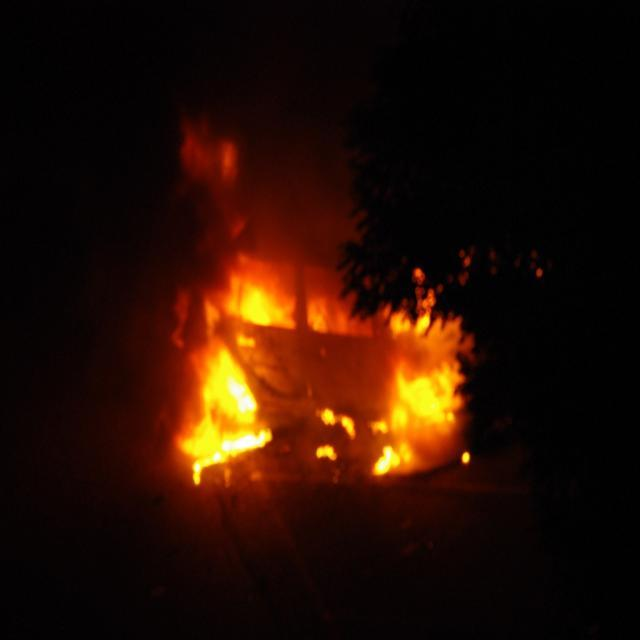Fire: (196, 331, 264, 474), (396, 350, 474, 458), (214, 266, 328, 335)
